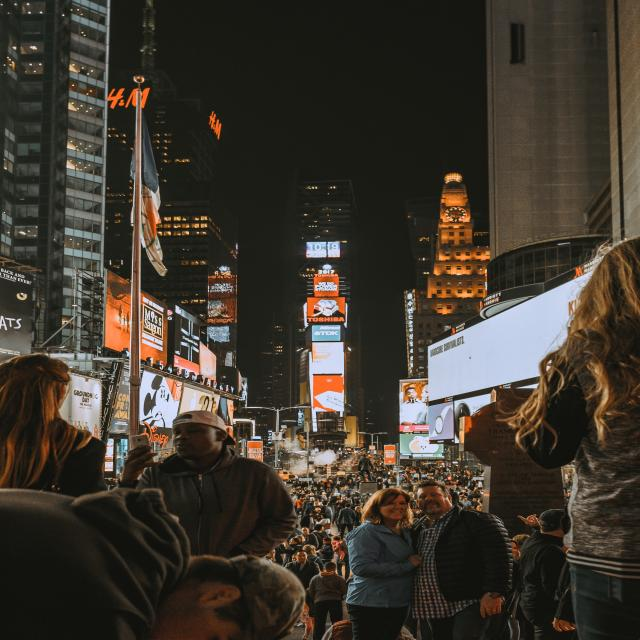Person: (119, 411, 301, 563), (407, 480, 520, 640), (341, 485, 415, 640)
